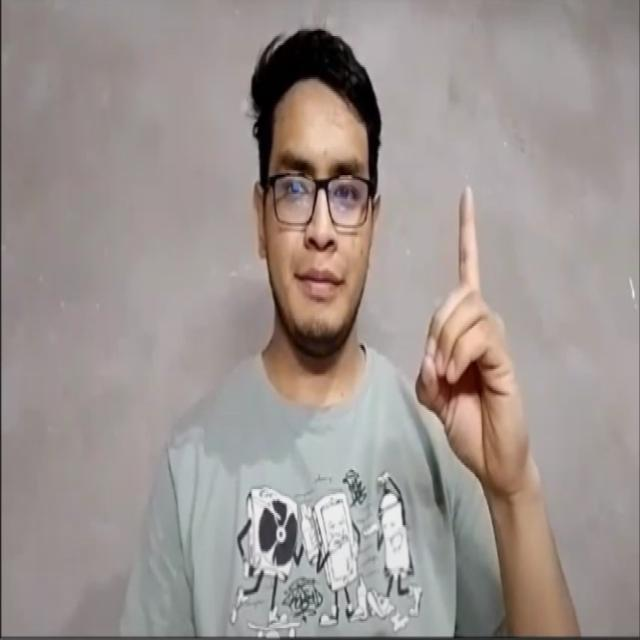D: (406, 177, 554, 503)
